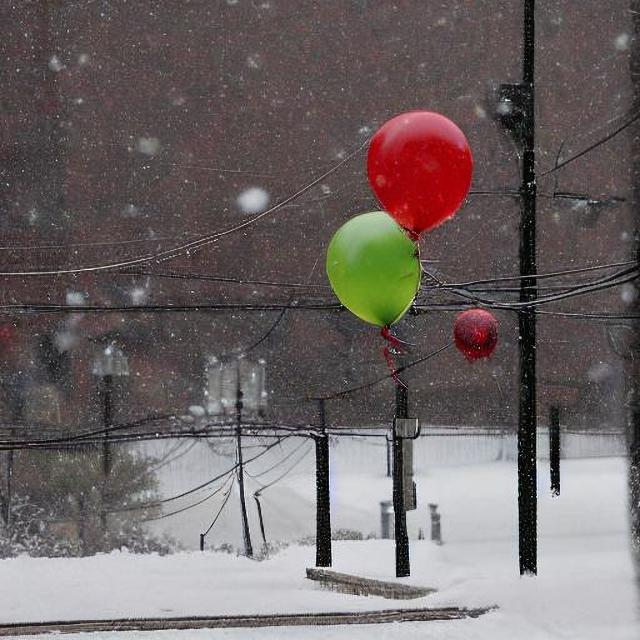balloon: (358, 111, 474, 229), (319, 206, 418, 324), (446, 301, 502, 365)
